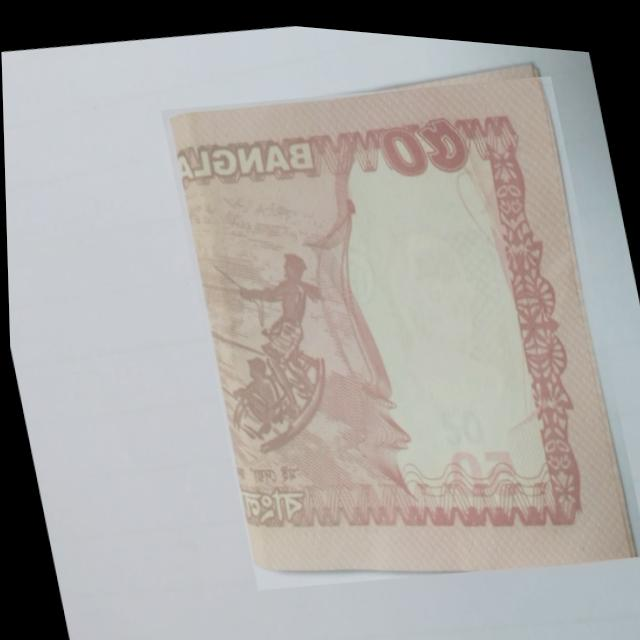Taka: (159, 38, 640, 613)
